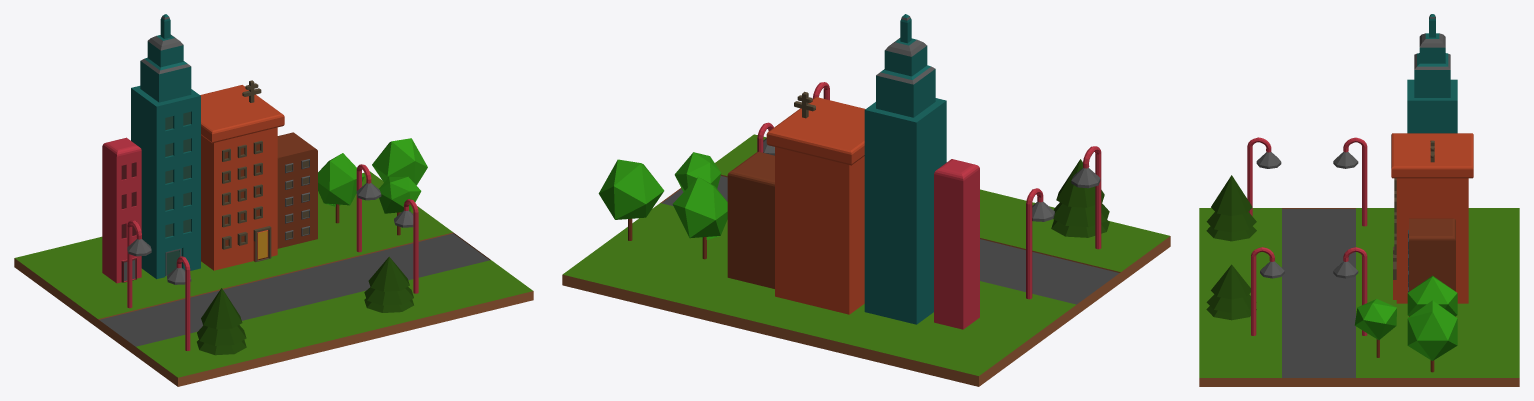
File: city.glb
3 views of the same model, side by side, from view 1: azimuth 30°, elevation 25°; view 2: azimuth 150°, elevation 25°; view 3: azimuth 270°, elevation 25° (orthographic). The views are drawn at different scales.
Visible parts, largest first — view 1: ground, building3, building1, building4, building2, lamps, tree.004, tree.002, tree.001, tree, tree.003; view 2: ground, building3, building1, building4, building2, lamps, tree, tree.001, tree.004, tree.003; view 3: ground, building1, building3, lamps, building2, tree, tree.004, tree.002, tree.003, tree.001.
Part boxes in pixels (x1,y1,x2,y2): ground: (14,171,533,386); building3: (131,14,200,279); building1: (200,80,284,270); building4: (102,137,141,283); building2: (277,132,317,248); lamps: (127,164,418,350); tree.004: (197,288,246,355); tree.002: (364,256,413,312); tree.001: (318,153,364,223); tree: (372,138,427,185); tree.003: (379,176,421,235); ground: (562,134,1170,386); building3: (864,14,946,324); building1: (766,91,865,314); building4: (934,159,979,329); building2: (727,151,774,288); lamps: (757,82,1101,299); tree: (598,159,664,240); tree.001: (672,176,727,259); tree.004: (1051,159,1109,237); tree.003: (674,152,721,191); ground: (1199,208,1519,386); building1: (1391,133,1473,303); building3: (1407,14,1457,133); lamps: (1247,137,1367,335); building2: (1408,218,1455,316); tree: (1407,300,1457,372); tree.004: (1206,175,1256,241); tree.002: (1206,264,1256,320); tree.003: (1354,299,1396,357); tree.001: (1407,275,1457,316).
Bounding box in the file's own units: 3.57 × 2.45 × 2.8.
